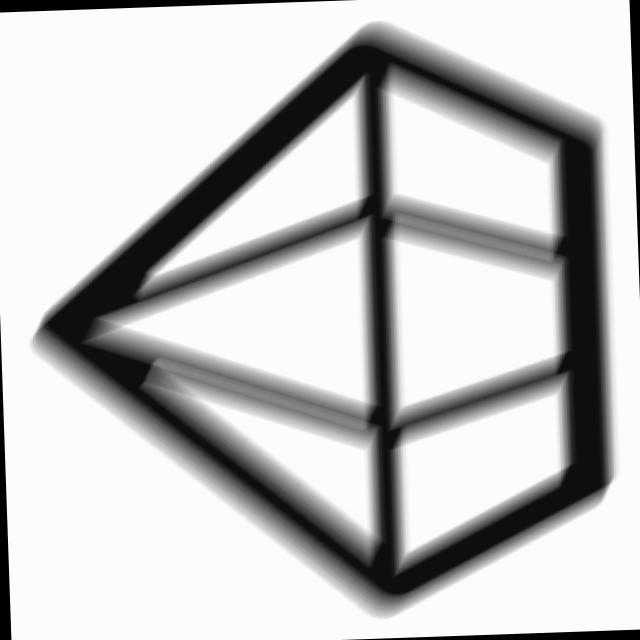diamond: (4, 1, 635, 640)
